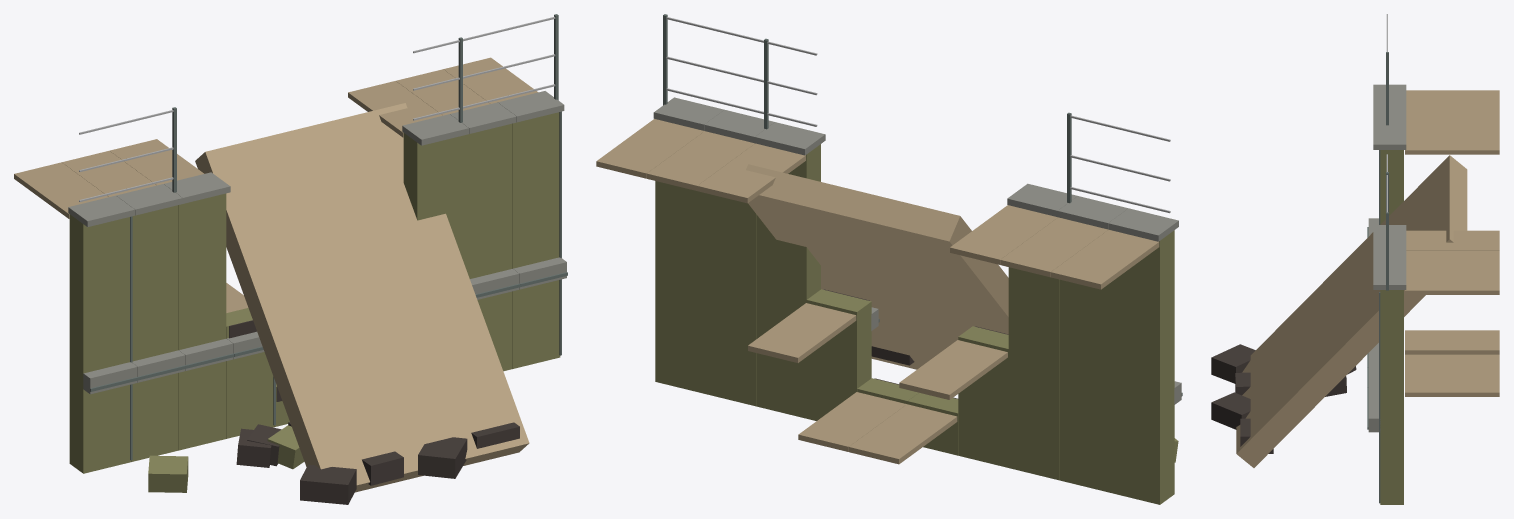
The model's file is SM_MuroRampa_v0_Alto_e3_Brecha_LOD0.fbx.
The picture shows the model from 3 angles, left to right: view 1: azimuth 30°, elevation 25°; view 2: azimuth 150°, elevation 25°; view 3: azimuth 270°, elevation 25°; orthographic projection. The views are drawn at different scales.
Parts seen in each view (by area): view 1: SM_muro_rampa_v3_LOD0; view 2: SM_muro_rampa_v3_LOD0; view 3: SM_muro_rampa_v3_LOD0.
Boxes of the visible parts, left/top/right/bottom form: SM_muro_rampa_v3_LOD0: left=14, top=14, right=567, bottom=504; SM_muro_rampa_v3_LOD0: left=596, top=14, right=1182, bottom=504; SM_muro_rampa_v3_LOD0: left=1211, top=14, right=1499, bottom=504.
Size of the model in its own units: 10.03 by 7.07 by 6.09.
